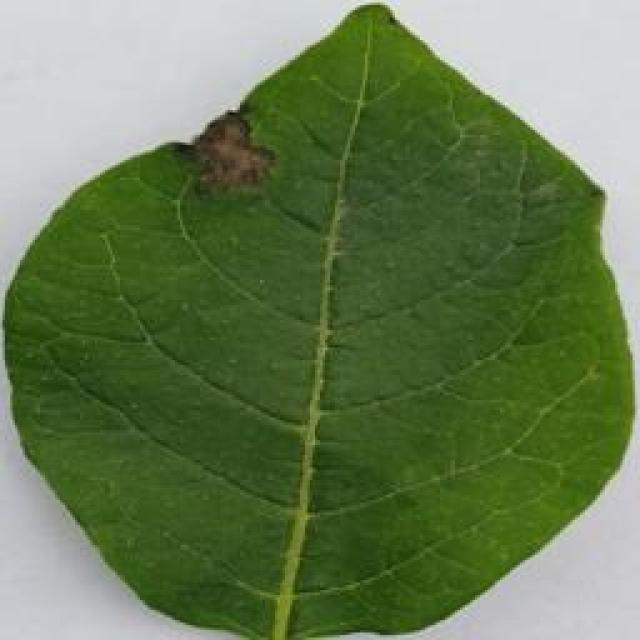Potato_Late_Blight: (6, 4, 622, 634)
